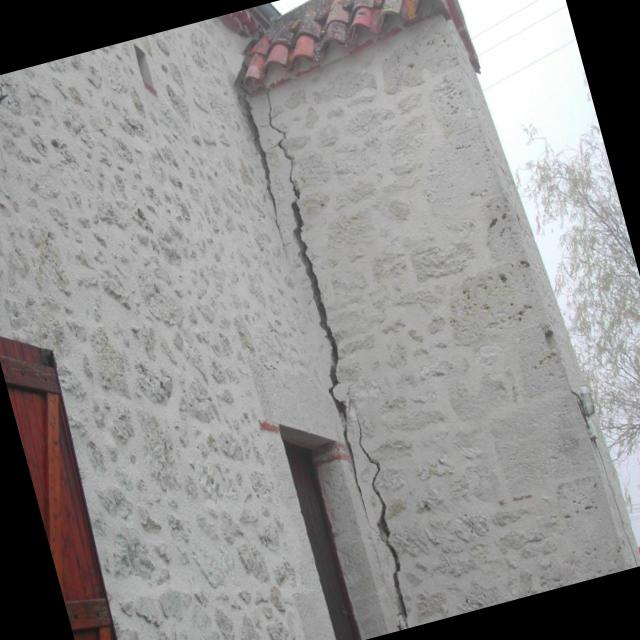crack: (291, 199, 346, 424), (358, 423, 405, 618), (244, 95, 282, 241), (264, 89, 300, 196)
